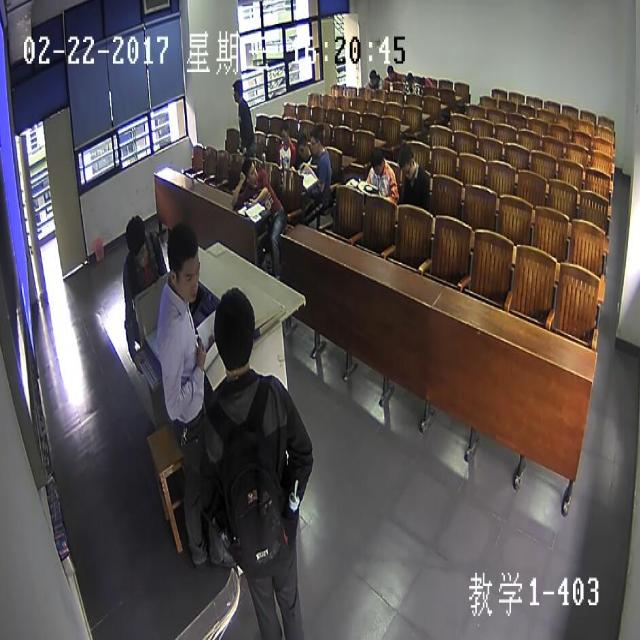person: (214, 288, 255, 368), (165, 223, 201, 304), (125, 210, 150, 268), (398, 140, 414, 179), (242, 156, 257, 187), (370, 143, 384, 174), (310, 125, 323, 154), (296, 129, 308, 156), (231, 78, 244, 102), (278, 121, 288, 142), (368, 66, 377, 85), (406, 68, 414, 86), (385, 61, 393, 77)
